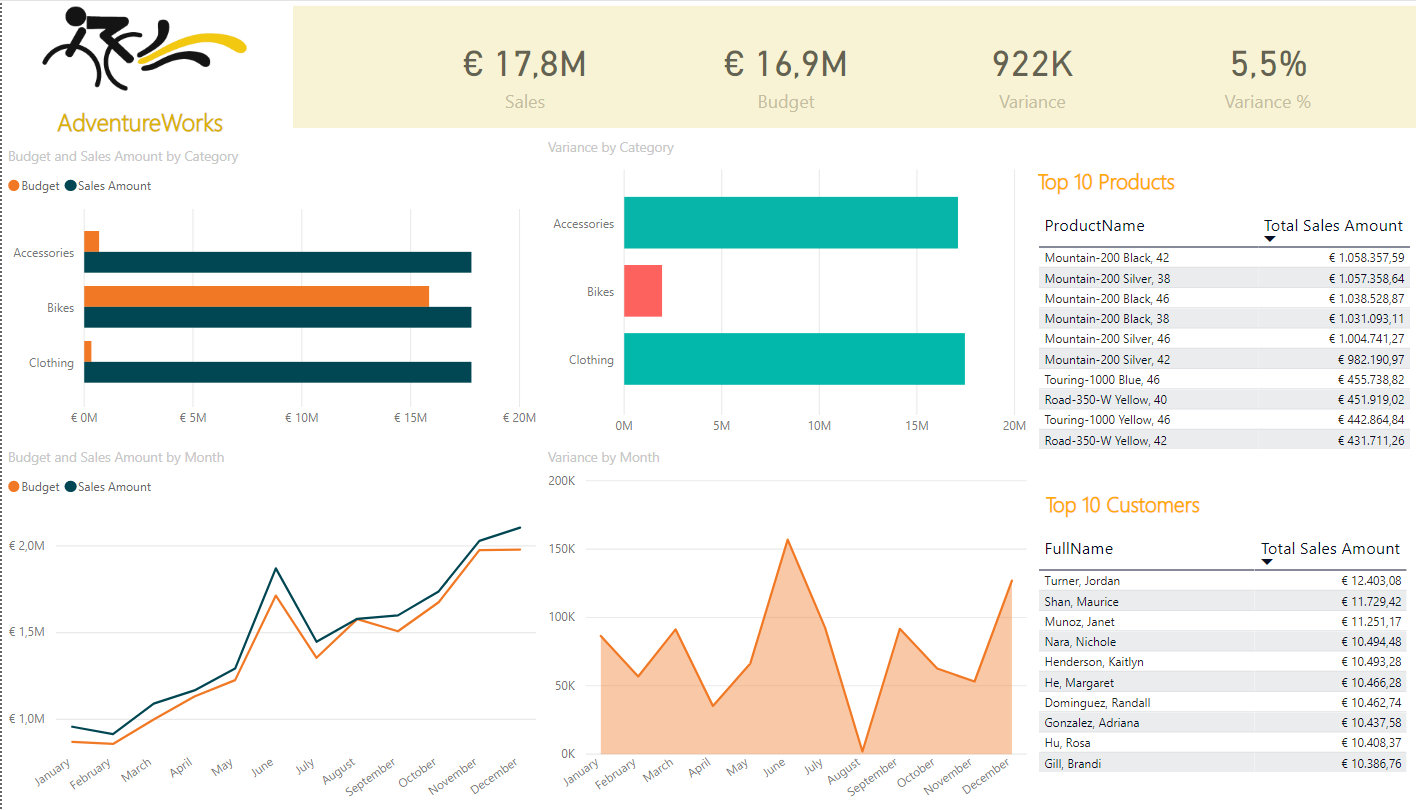

The dashboard page shown, as its layout file describes it:
{"tool":"powerbi","page":{"name":"Basic Dashboard","canvas":[1280,720],"ordinal":0},"visuals":[{"type":"textbox","box":[0,87,245.8,52.2],"z":0},{"type":"card","fields":{"Values":["Budget.Variance"]},"box":[805.2,0,221.2,126.4],"z":1000},{"type":"card","fields":{"Values":["Budget.Budget"]},"box":[588.5,0,216.6,126.4],"z":2000},{"type":"card","fields":{"Values":["Sales.Sales Amount"]},"box":[361.1,0,207.6,126.4],"z":3000},{"type":"card","fields":{"Values":["Budget.Variance %"]},"box":[1026.3,0,196.8,126.4],"z":4000},{"type":"image","box":[0,0,245.8,87],"z":5000},{"type":"basicShape","box":[245.5,0,1034.5,117.3],"z":6000},{"type":"clusteredBarChart","fields":{"Y":["Budget.Budget","Sales.Sales Amount"],"Category":["Budget.Category","Budget.Subcategory"]},"box":[0,128.9,480,259.6],"z":7000},{"type":"clusteredBarChart","fields":{"Category":["Budget.Category","Budget.Subcategory"],"Y":["Budget.Variance"]},"box":[480.2,121,436,275.3],"z":8000},{"type":"lineChart","fields":{"Y":["Budget.Budget","Sales.Sales Amount"],"Category":["Calendar.MonthYear.Variation.Date Hierarchy.Month"]},"box":[0,396.4,480,323.6],"z":8001},{"type":"stackedAreaChart","fields":{"Category":["Calendar.MonthYear.Variation.Date Hierarchy.Month"],"Y":["Budget.Variance"]},"box":[480.2,396.3,436,324.1],"z":8002},{"type":"tableEx","fields":{"Values":["Product.ProductName","Sales.Total Sales Amount"]},"box":[915.5,182.3,354.3,246.8],"z":8003},{"type":"tableEx","fields":{"Values":["Customer.FullName","Sales.Total Sales Amount"]},"box":[915.5,469,354.3,250.9],"z":8004},{"type":"textbox","box":[922.6,429.1,170,39.9],"z":8005},{"type":"textbox","box":[915.5,142.3,333.8,39.9],"z":8006}]}

Visuals, with their boxes in screenshot pixels (x1, y1, x2, y2), scaled from the page's 1280x720 canvas onto the 1416x810 screenshot:
textbox: [0,98,272,157]
card - Budget.Variance: [891,0,1135,142]
card - Budget.Budget: [651,0,891,142]
card - Sales.Sales Amount: [399,0,629,142]
card - Budget.Variance %: [1135,0,1353,142]
image: [0,0,272,98]
basicShape: [272,0,1415,132]
clusteredBarChart - Budget.Budget x Sales.Sales Amount: [0,145,531,437]
clusteredBarChart - Budget.Category x Budget.Subcategory: [531,136,1014,446]
lineChart - Budget.Budget x Sales.Sales Amount: [0,446,531,809]
stackedAreaChart - Calendar.MonthYear.Variation.Date Hierarchy.Month x Budget.Variance: [531,446,1014,809]
tableEx - Product.ProductName x Sales.Total Sales Amount: [1013,205,1405,483]
tableEx - Customer.FullName x Sales.Total Sales Amount: [1013,528,1405,809]
textbox: [1021,483,1209,528]
textbox: [1013,160,1382,205]
